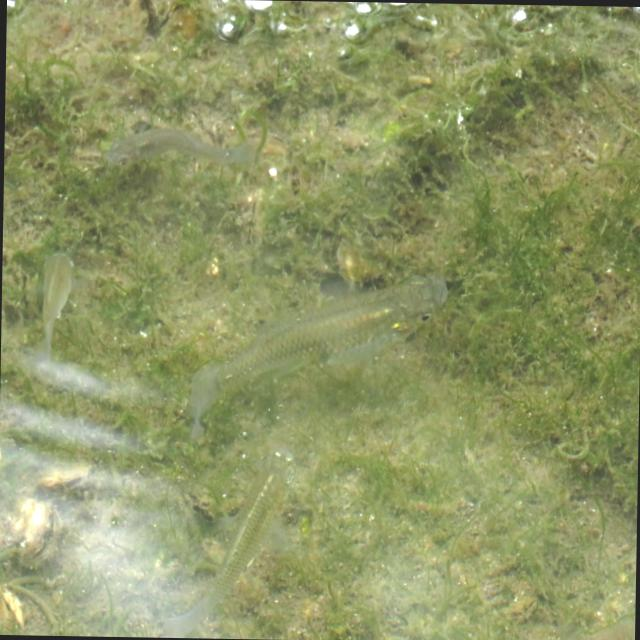Sivrisinek Baligi: (186, 265, 455, 429), (166, 450, 300, 636), (93, 122, 257, 184), (29, 234, 78, 366)
